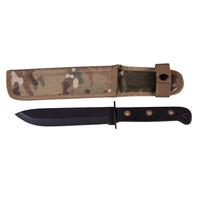knife: (8, 102, 195, 131)
